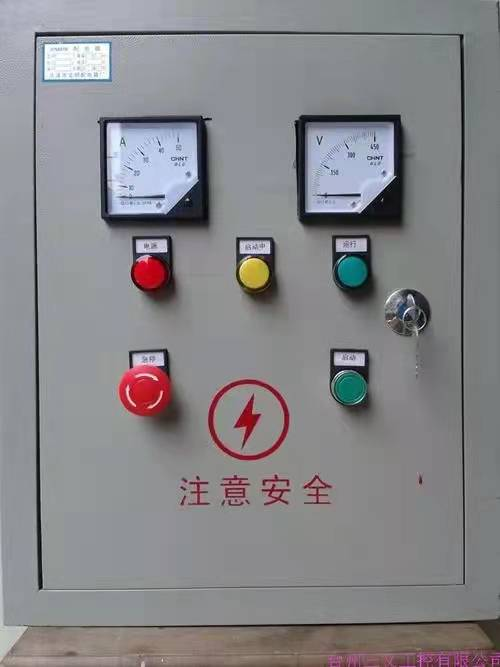pointer: (101, 119, 202, 218), (302, 118, 395, 216)
